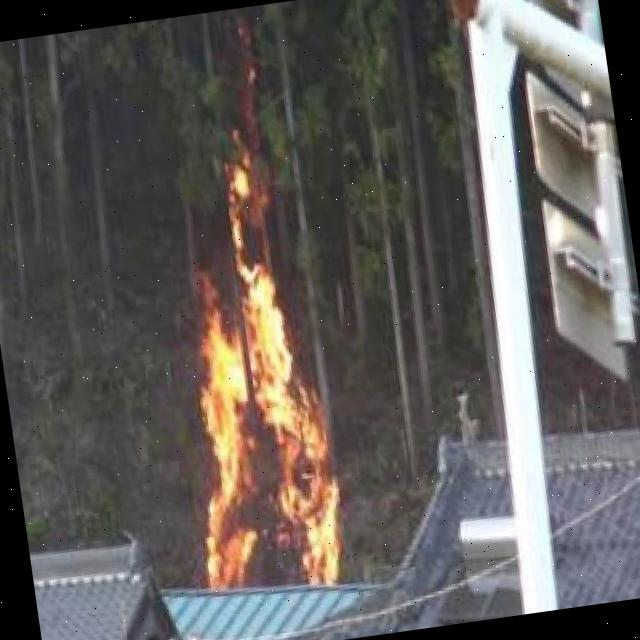fire: (162, 262, 358, 610)
